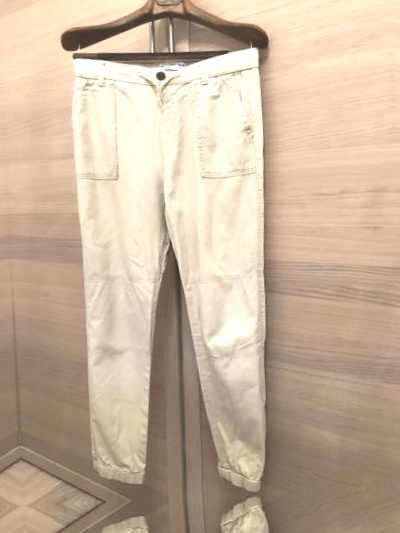Pants: (36, 11, 307, 491), (61, 506, 333, 533), (0, 523, 10, 533)
